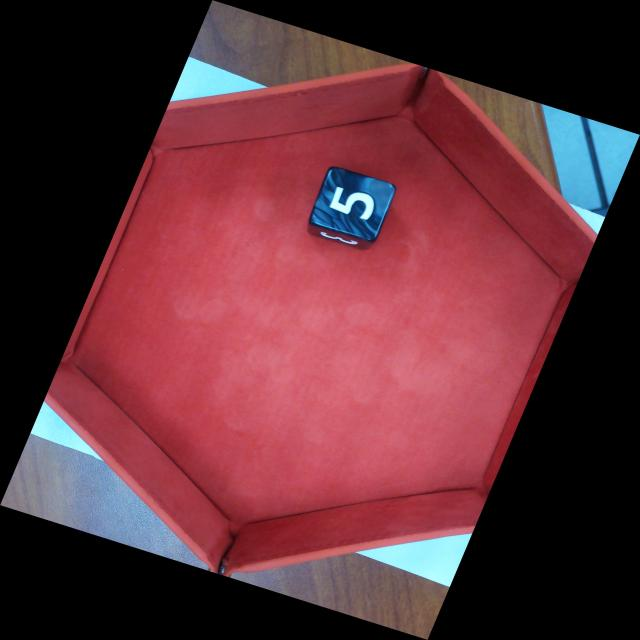dice: (308, 163, 398, 242)
